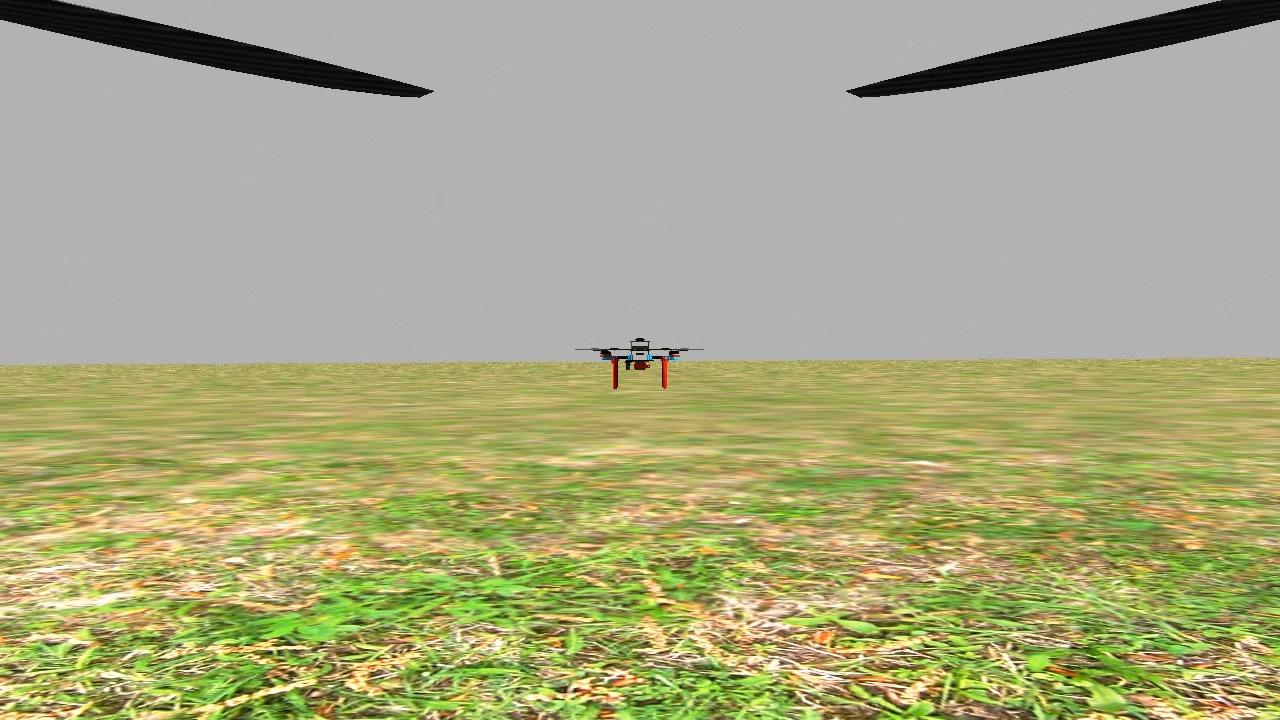UAV: (586, 332, 692, 398)
